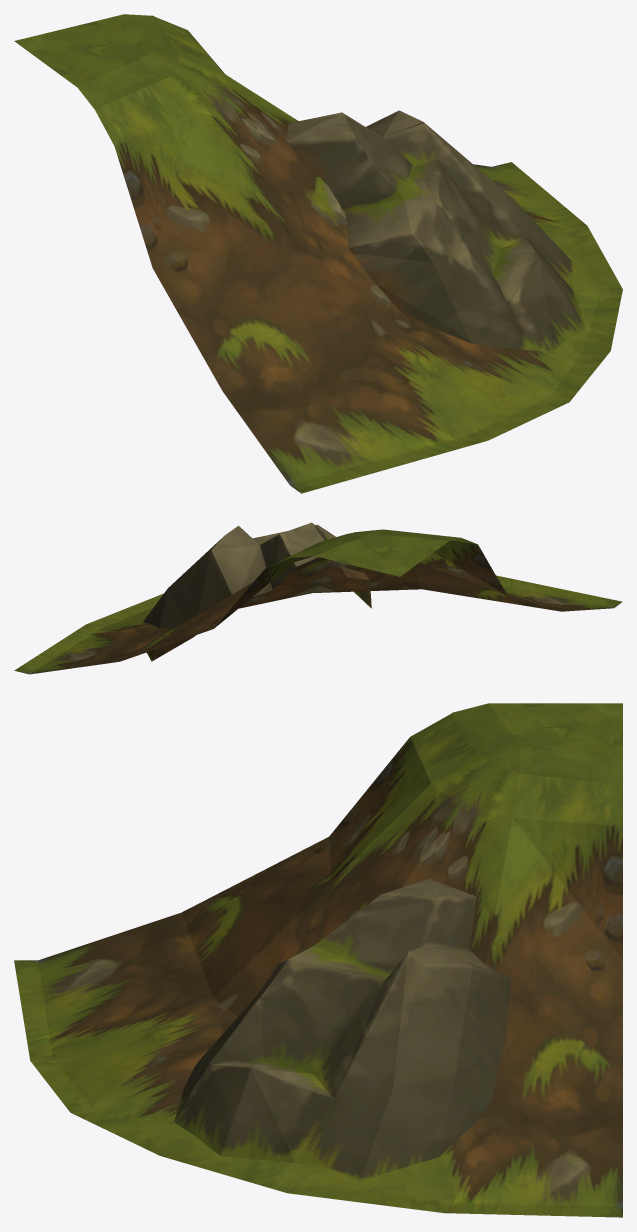
File: tundra_convex_basecap01.fbx
The picture shows the model from 3 angles, top to bottom: view 1: azimuth 30°, elevation 25°; view 2: azimuth 150°, elevation 25°; view 3: azimuth 270°, elevation 25°; orthographic projection. The views are drawn at different scales.
Visible parts, largest first — view 1: obj3.002; view 2: obj3.002; view 3: obj3.002.
Part boxes in pixels (<box>): obj3.002: <box>14,14,622,493</box>; obj3.002: <box>14,522,622,674</box>; obj3.002: <box>14,703,622,1217</box>.
Bounding box in the file's own units: 8.55 × 3.98 × 8.55.
